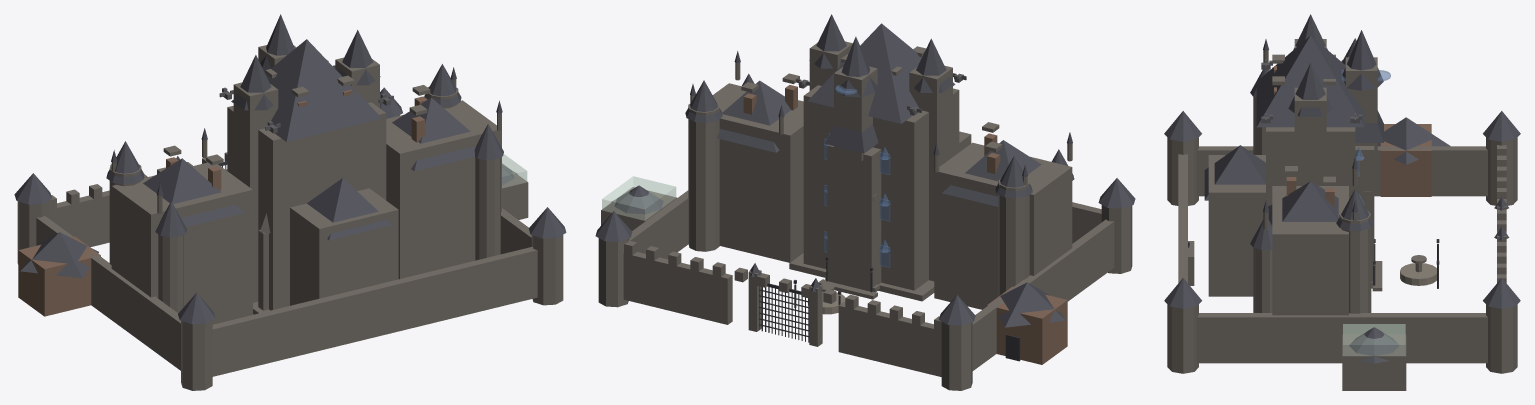
File: gen_1772922648492.glb
3 views of the same model, side by side, from view 1: azimuth 30°, elevation 25°; view 2: azimuth 150°, elevation 25°; view 3: azimuth 270°, elevation 25° (orthographic). The views are drawn at different scales.
Parts seen in each view (by area): view 1: Wall_Back, Wing_Left_Body, Wing_Right_Body, Manor_MainBody, Rear_Wing, Manor_RoofMain, Wall_Left, Stable_Body, Tower_MainL_Body, Turret_RightRear_Body, Wing_Left_Roof, Wall_FrontLeft (+23 smaller); view 2: Wing_Left_Body, Manor_MainBody, Wing_Right_Body, Manor_FrontBay, Wall_FrontRight, Wall_Left, Wall_FrontLeft, Turret_RightFront_Body, Manor_RoofMain, Tower_MainL_Body, Stable_Body, Turret_LeftFront_Body (+25 smaller); view 3: Wall_Right, Wing_Right_Body, Rear_Wing, Manor_RoofMain, Wall_Left, Manor_MainBody, Greenhouse_Base, Tower_MainR_Body, Stable_Body, Turret_RightFront_Body, WallCorner_1_Body, WallCorner_3_Body (+23 smaller).
Boxes of the visible parts, <box> form: Wall_Back: <box>212,246,537,376</box>; Wing_Left_Body: <box>111,162,252,324</box>; Wing_Right_Body: <box>386,100,501,279</box>; Manor_MainBody: <box>227,102,386,310</box>; Rear_Wing: <box>290,188,398,305</box>; Manor_RoofMain: <box>231,39,381,141</box>; Wall_Left: <box>36,215,180,370</box>; Stable_Body: <box>18,236,100,316</box>; Tower_MainL_Body: <box>233,82,278,302</box>; Turret_RightRear_Body: <box>475,157,500,260</box>; Wing_Left_Roof: <box>143,158,244,227</box>; Wall_FrontLeft: <box>49,190,109,247</box>; Wing_Left_Body: <box>934,142,1072,309</box>; Manor_MainBody: <box>803,85,959,290</box>; Wing_Right_Body: <box>712,83,803,262</box>; Manor_FrontBay: <box>827,145,881,291</box>; Wall_FrontRight: <box>623,252,732,324</box>; Wall_Left: <box>972,219,1114,370</box>; Wall_FrontLeft: <box>838,302,941,376</box>; Turret_RightFront_Body: <box>688,102,719,251</box>; Manor_RoofMain: <box>807,23,955,123</box>; Tower_MainL_Body: <box>909,66,952,281</box>; Stable_Body: <box>987,286,1067,364</box>; Turret_LeftFront_Body: <box>998,179,1029,296</box>; Wall_Right: <box>1197,313,1487,363</box>; Wing_Right_Body: <box>1272,186,1348,315</box>; Rear_Wing: <box>1208,155,1265,296</box>; Manor_RoofMain: <box>1256,35,1364,127</box>; Wall_Left: <box>1197,146,1487,196</box>; Manor_MainBody: <box>1266,127,1355,206</box>; Greenhouse_Base: <box>1342,334,1406,390</box>; Tower_MainR_Body: <box>1294,87,1326,185</box>; Stable_Body: <box>1380,124,1431,196</box>; Turret_RightFront_Body: <box>1339,210,1371,313</box>; WallCorner_1_Body: <box>1486,304,1517,373</box>; WallCorner_3_Body: <box>1167,304,1198,373</box>.
Bounding box in the file's own units: 85 × 44 × 56.
